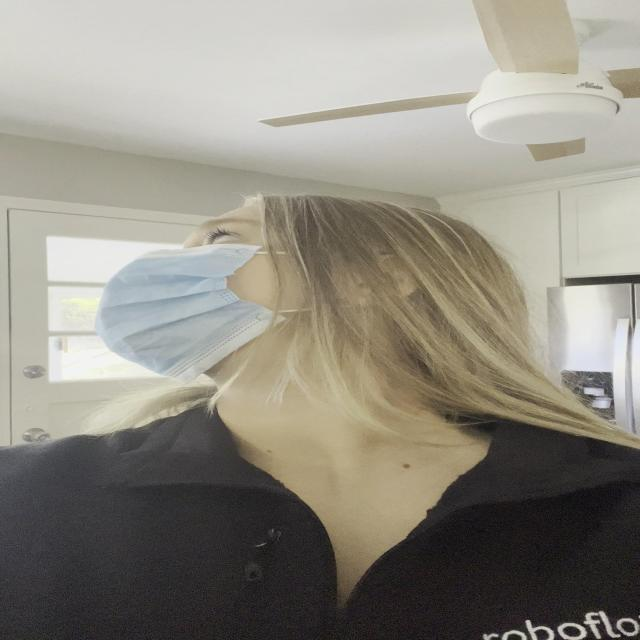no hat: (95, 188, 370, 384)
